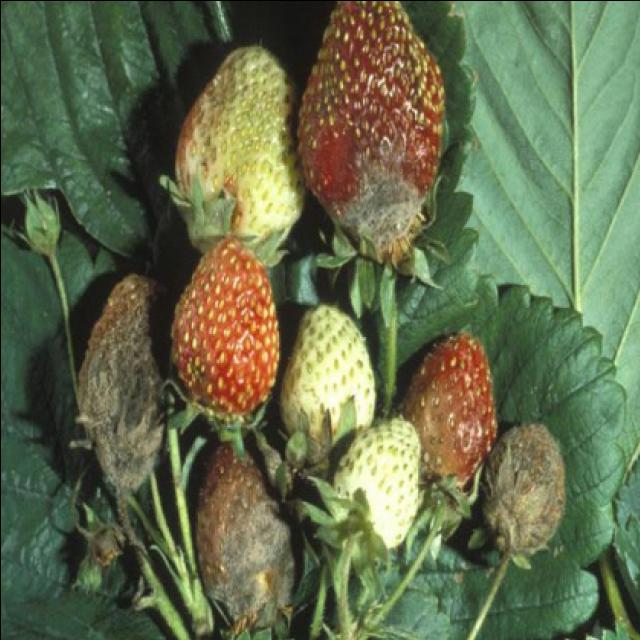Gray Mold: (69, 273, 168, 498), (193, 445, 294, 633), (312, 107, 433, 261), (478, 421, 564, 560)
